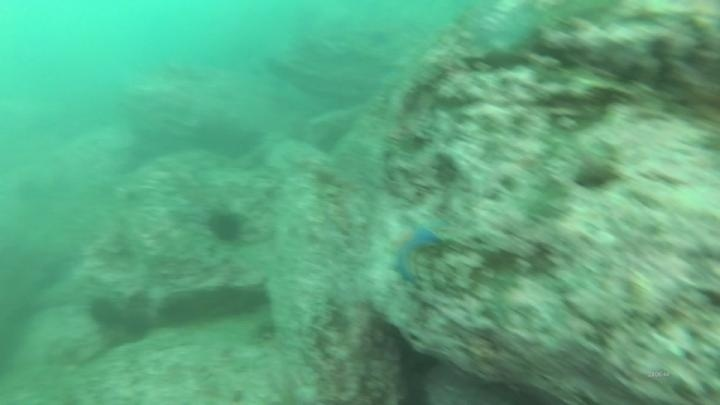echinus: (205, 207, 247, 246), (85, 294, 123, 331)
starfish: (385, 216, 445, 288)
